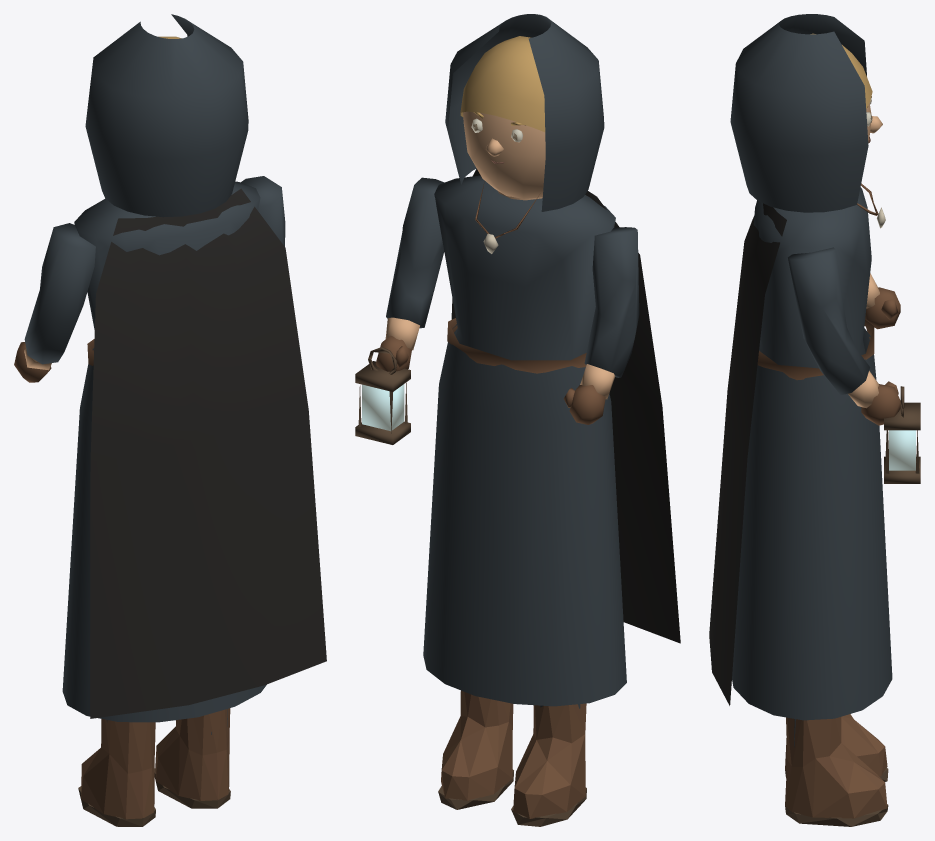
The model's file is SM_NPC_ESTRELLA_FUGAZ_MEDIA.glb.
3 views of the same model, side by side, from view 1: azimuth 30°, elevation 25°; view 2: azimuth 150°, elevation 25°; view 3: azimuth 270°, elevation 25° (orthographic). The views are drawn at different scales.
Visible parts, largest first — view 1: SM_NPC_ESTRELLA_FUGAZ_BODY, SM_NPC_ESTRELLA_FUGAZ_HEAD, SM_NPC_ESTRELLA_FUGAZ_ARM_L, SM_NPC_ESTRELLA_FUGAZ_ARM_R; view 2: SM_NPC_ESTRELLA_FUGAZ_BODY, SM_NPC_ESTRELLA_FUGAZ_HEAD, SM_NPC_ESTRELLA_FUGAZ_ARM_R, SM_NPC_ESTRELLA_FUGAZ_ARM_L; view 3: SM_NPC_ESTRELLA_FUGAZ_BODY, SM_NPC_ESTRELLA_FUGAZ_HEAD, SM_NPC_ESTRELLA_FUGAZ_ARM_R, SM_NPC_ESTRELLA_FUGAZ_ARM_L.
Part boxes in pixels (x1,y1,x2,y2): SM_NPC_ESTRELLA_FUGAZ_BODY: (62, 181, 326, 826); SM_NPC_ESTRELLA_FUGAZ_HEAD: (85, 14, 248, 217); SM_NPC_ESTRELLA_FUGAZ_ARM_L: (14, 223, 95, 382); SM_NPC_ESTRELLA_FUGAZ_ARM_R: (240, 176, 285, 246); SM_NPC_ESTRELLA_FUGAZ_BODY: (423, 169, 680, 826); SM_NPC_ESTRELLA_FUGAZ_HEAD: (445, 14, 604, 211); SM_NPC_ESTRELLA_FUGAZ_ARM_R: (355, 177, 444, 444); SM_NPC_ESTRELLA_FUGAZ_ARM_L: (563, 227, 639, 424); SM_NPC_ESTRELLA_FUGAZ_BODY: (709, 183, 892, 826); SM_NPC_ESTRELLA_FUGAZ_HEAD: (730, 14, 882, 212); SM_NPC_ESTRELLA_FUGAZ_ARM_R: (788, 247, 920, 483); SM_NPC_ESTRELLA_FUGAZ_ARM_L: (865, 273, 900, 329).
Bounding box in the file's own units: 0.6046 × 1.85 × 0.4587.
